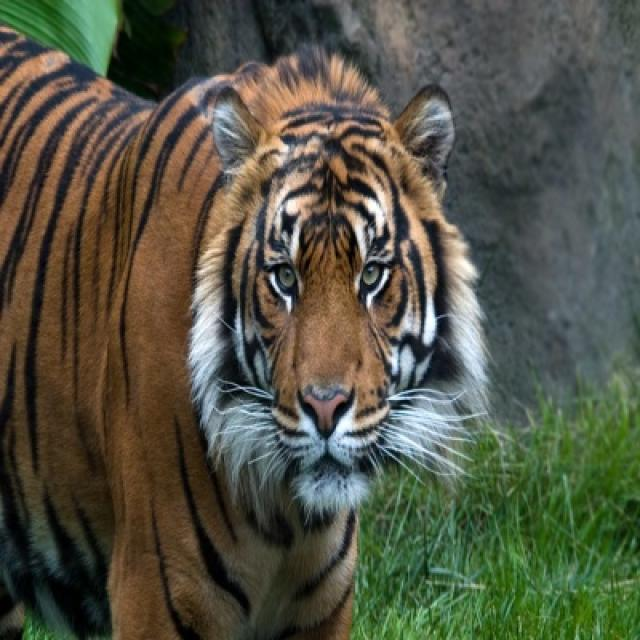Tiger: (1, 23, 497, 634)
